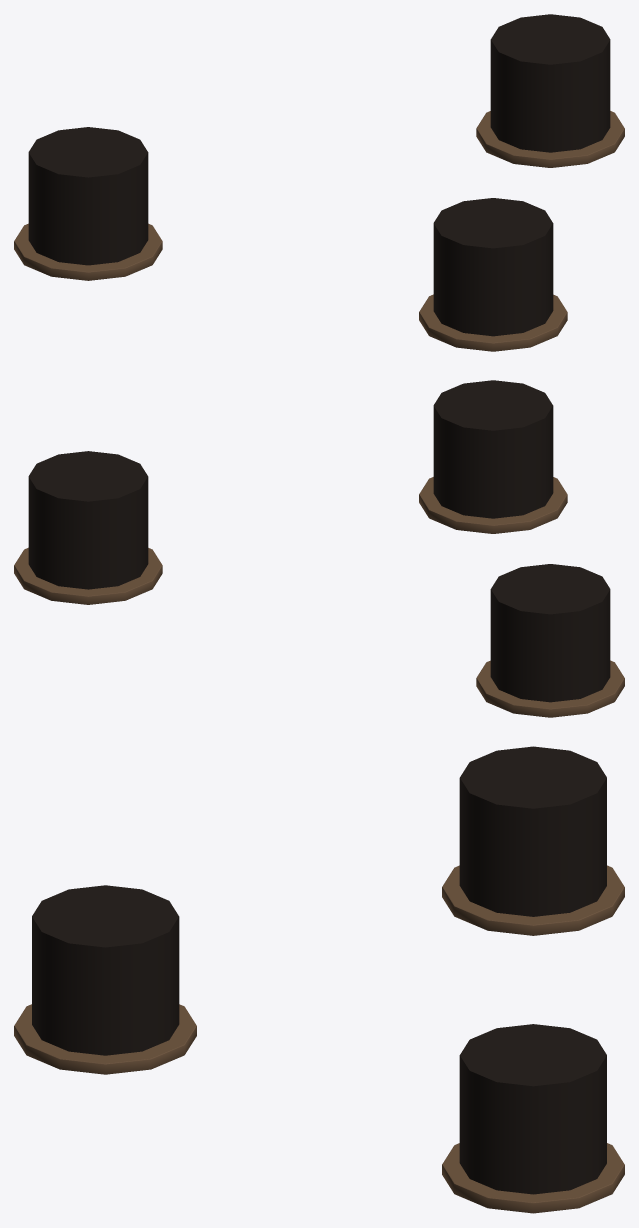
The model's file is ceiling_light_premium_triple_lod2.glb.
The picture shows the model from 3 angles, top to bottom: view 1: azimuth 30°, elevation 25°; view 2: azimuth 150°, elevation 25°; view 3: azimuth 270°, elevation 25°; orthographic projection. The views are drawn at different scales.
Parts seen in each view (by area): view 1: LOD2_Downlight_02_RoughInHousing, LOD2_Downlight_01_RoughInHousing, LOD2_Downlight_03_RoughInHousing, BATCH_Root_Premium_DarkBronze.002; view 2: LOD2_Downlight_03_RoughInHousing, LOD2_Downlight_02_RoughInHousing, LOD2_Downlight_01_RoughInHousing, BATCH_Root_Premium_DarkBronze.002; view 3: LOD2_Downlight_03_RoughInHousing, LOD2_Downlight_01_RoughInHousing, LOD2_Downlight_02_RoughInHousing, BATCH_Root_Premium_DarkBronze.002.
Boxes of the visible parts, x1,y1,x2,y2 form: LOD2_Downlight_02_RoughInHousing: (490,14,610,152); LOD2_Downlight_01_RoughInHousing: (28,127,148,265); LOD2_Downlight_03_RoughInHousing: (433,198,553,336); BATCH_Root_Premium_DarkBronze.002: (14,111,624,351); LOD2_Downlight_03_RoughInHousing: (433,380,553,518); LOD2_Downlight_02_RoughInHousing: (28,451,148,589); LOD2_Downlight_01_RoughInHousing: (490,564,610,702); BATCH_Root_Premium_DarkBronze.002: (14,477,624,717); LOD2_Downlight_03_RoughInHousing: (32,885,179,1055); LOD2_Downlight_01_RoughInHousing: (459,746,606,916); LOD2_Downlight_02_RoughInHousing: (459,1024,606,1194); BATCH_Root_Premium_DarkBronze.002: (14,865,624,1213).
Size of what is drawn, in the model's own units: 0.844 by 0.145 by 0.614.
